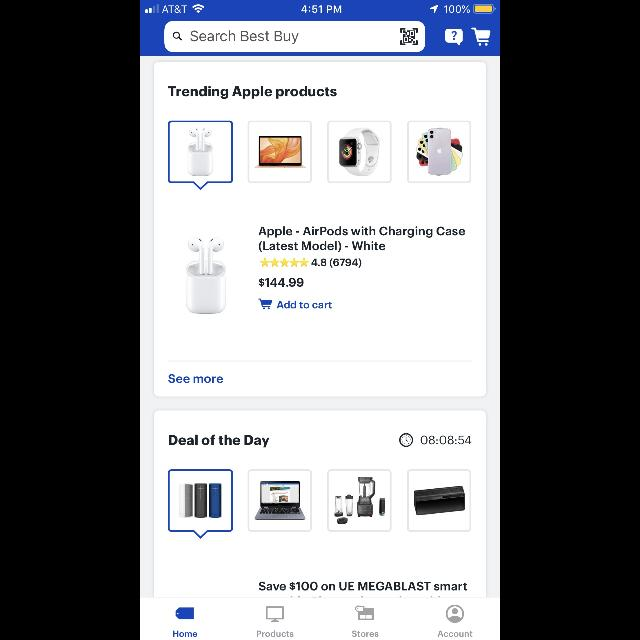icon: (260, 257, 308, 267), (472, 28, 491, 46), (446, 605, 464, 623), (446, 28, 462, 46), (176, 607, 194, 619), (399, 433, 413, 447), (258, 298, 272, 310), (174, 32, 182, 40)
image: (168, 121, 234, 190), (168, 469, 234, 538), (248, 121, 312, 183), (328, 121, 392, 183), (407, 121, 471, 183), (248, 470, 312, 532), (328, 470, 392, 532), (407, 470, 471, 532), (186, 238, 226, 314), (400, 28, 418, 46), (266, 606, 284, 622), (356, 606, 374, 620)
input: (165, 22, 425, 52)
text: (259, 226, 465, 252), (169, 86, 337, 100), (259, 582, 467, 590), (168, 434, 270, 448), (191, 31, 299, 44), (168, 374, 224, 384), (311, 258, 361, 268), (276, 301, 332, 309), (421, 436, 472, 444), (258, 278, 304, 286), (258, 631, 294, 637), (352, 630, 378, 638), (438, 631, 472, 637), (173, 631, 197, 637)
uppertaskbar: (140, 0, 500, 14)
